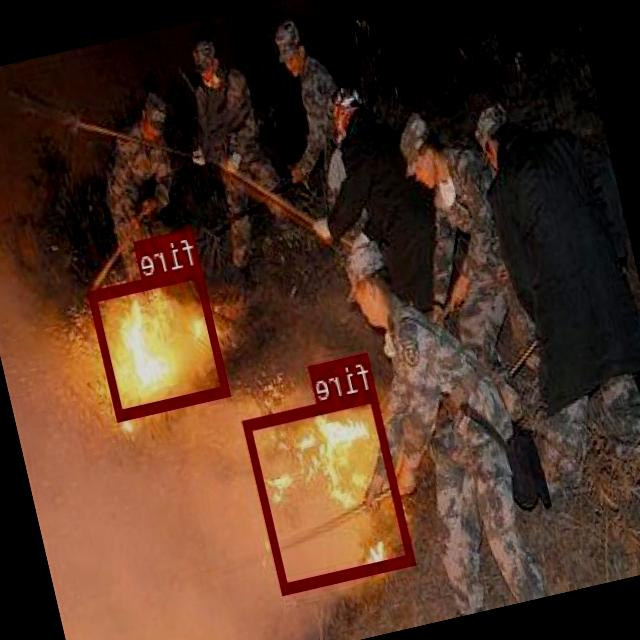fire: (244, 388, 416, 590), (88, 264, 230, 418)
